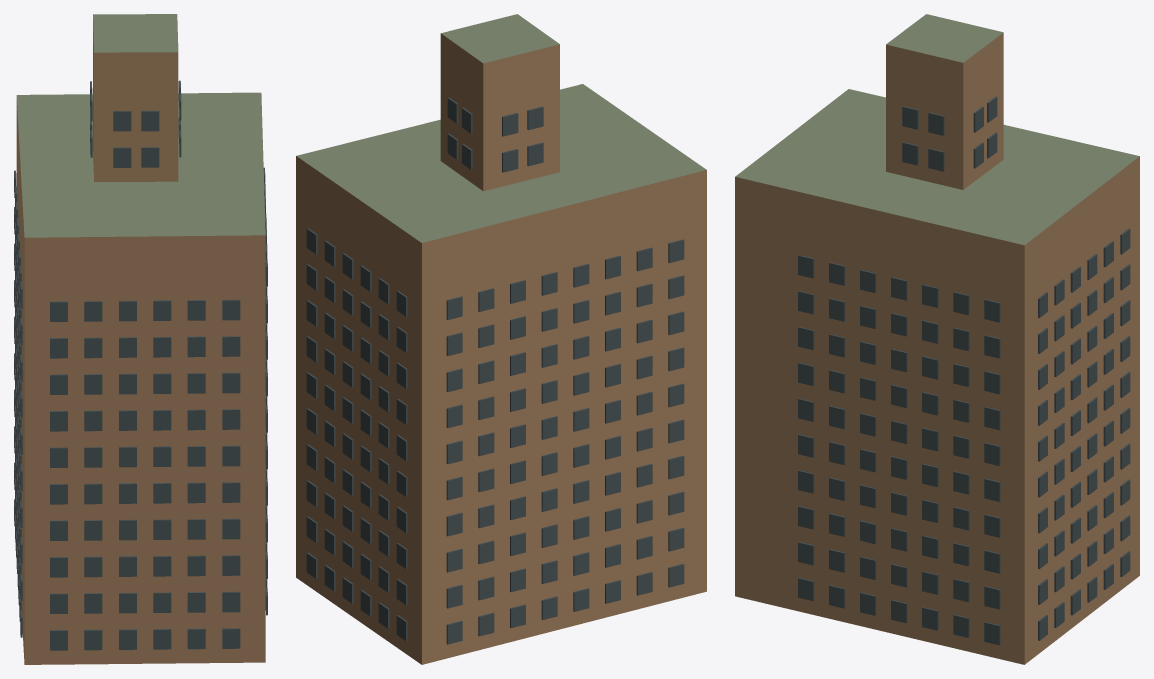
The model's file is 25-union-square-west.glb.
3 renders of one model, left to right at view 1: azimuth 30°, elevation 25°; view 2: azimuth 150°, elevation 25°; view 3: azimuth 270°, elevation 25°, orthographic.
Visible parts, largest first — view 1: 25-union-square-west; view 2: 25-union-square-west; view 3: 25-union-square-west.
Part boxes in pixels (box(x1,y1,x2,y2)): 25-union-square-west: box(14, 14, 267, 664); 25-union-square-west: box(296, 14, 706, 664); 25-union-square-west: box(735, 14, 1139, 664).
Size of the model in its own units: 30.41 by 49.57 by 33.26.
